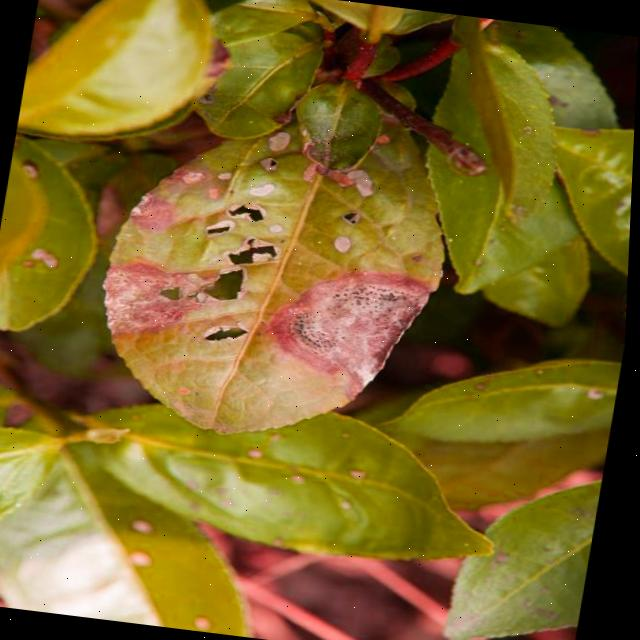Tea cloud leaf blight: (107, 157, 287, 351), (271, 246, 444, 401)
